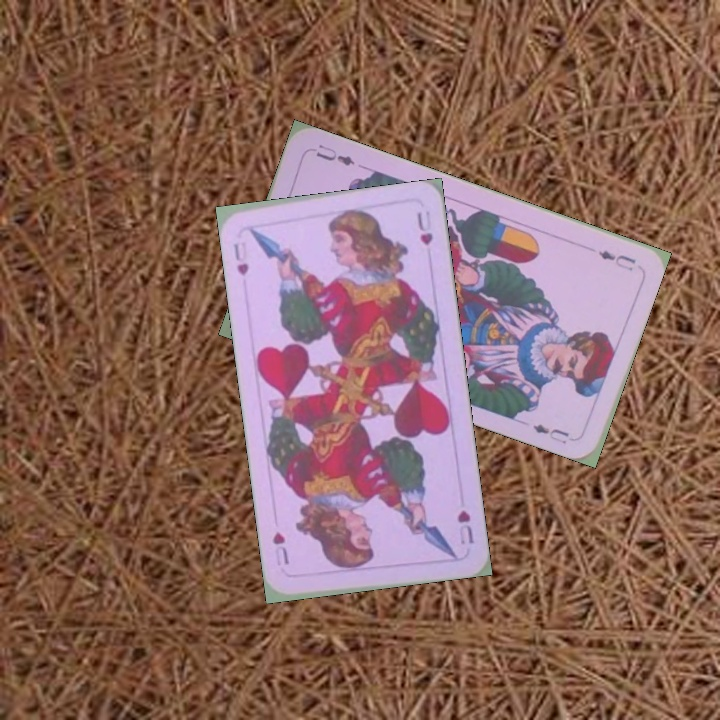EU: (594, 246, 639, 274)
HU: (453, 506, 477, 546), (230, 237, 251, 279)
